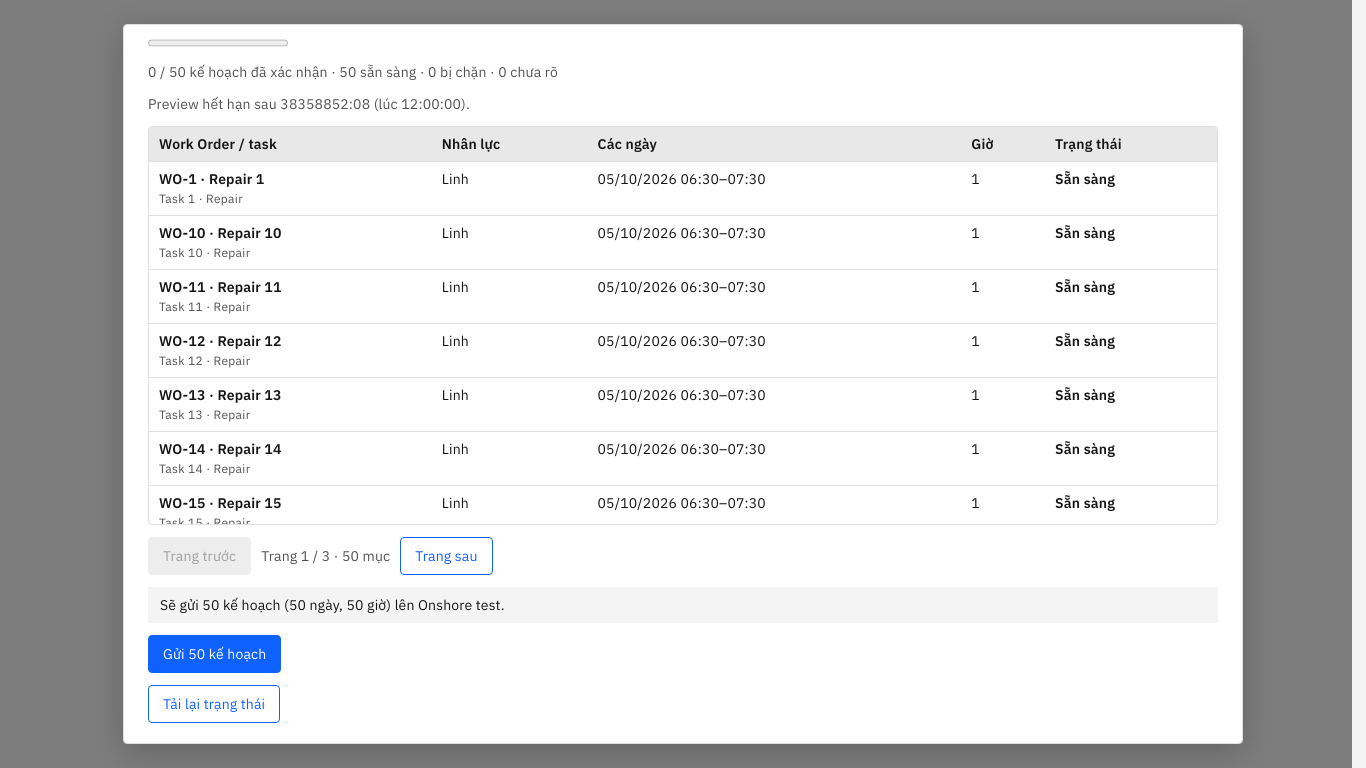
Test case: pages through a 50-row batch and keeps previous/next controls bounded
(page scrolled)
Check: the text "Trang 1 / 3 · 50 mục" is shown, box [261,546,390,566]
Check: the button "Trang trước" is disabled, box [148,537,251,575]
Click the button "Trang sau".
click(446, 556)  # box [400,537,493,575]
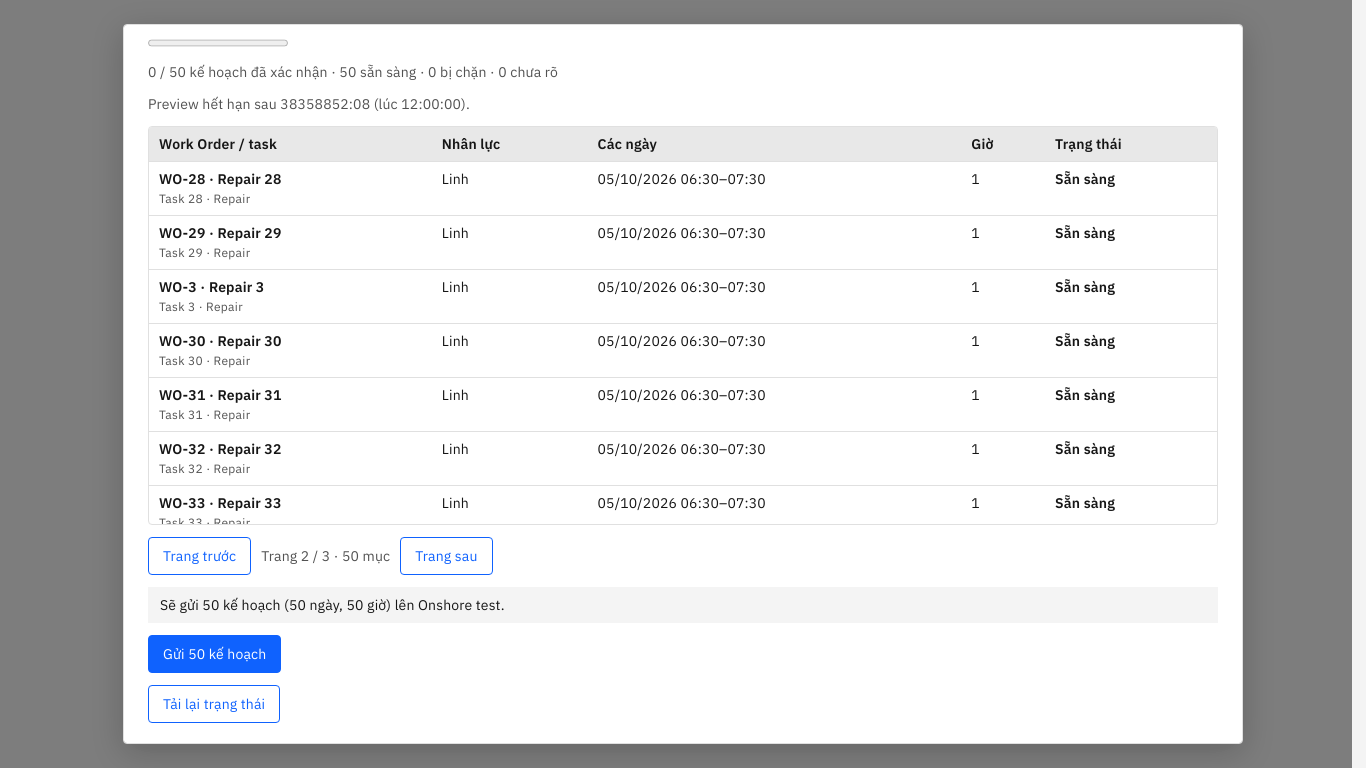
Check: the text "Trang 2 / 3 · 50 mục" is shown, box [261,546,390,566]
Click the button "Trang sau".
click(446, 556)  # box [400,537,493,575]
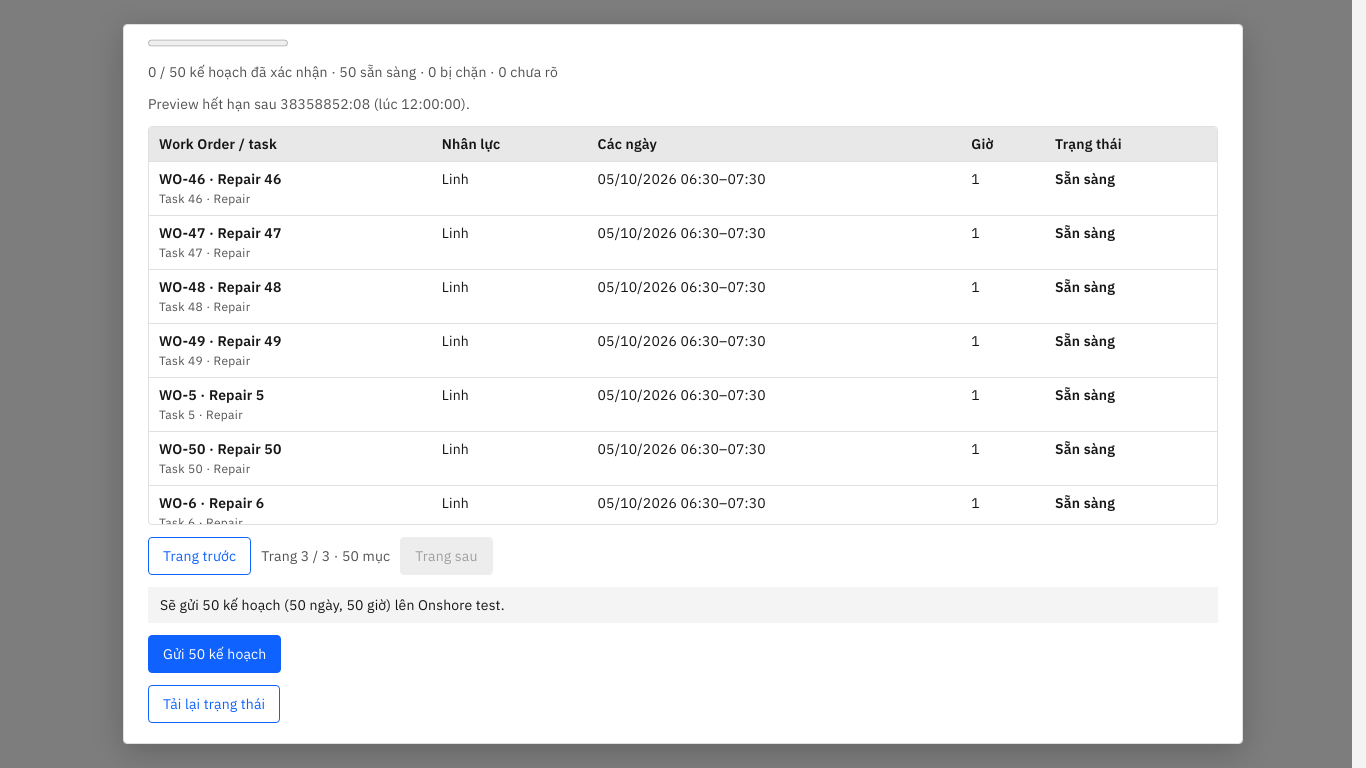
Check: the text "Trang 3 / 3 · 50 mục" is shown, box [261,546,390,566]
Check: the text "WO-50 · Repair 50" is shown, box [159,440,282,458]
Check: the button "Trang sau" is disabled, box [400,537,493,575]
